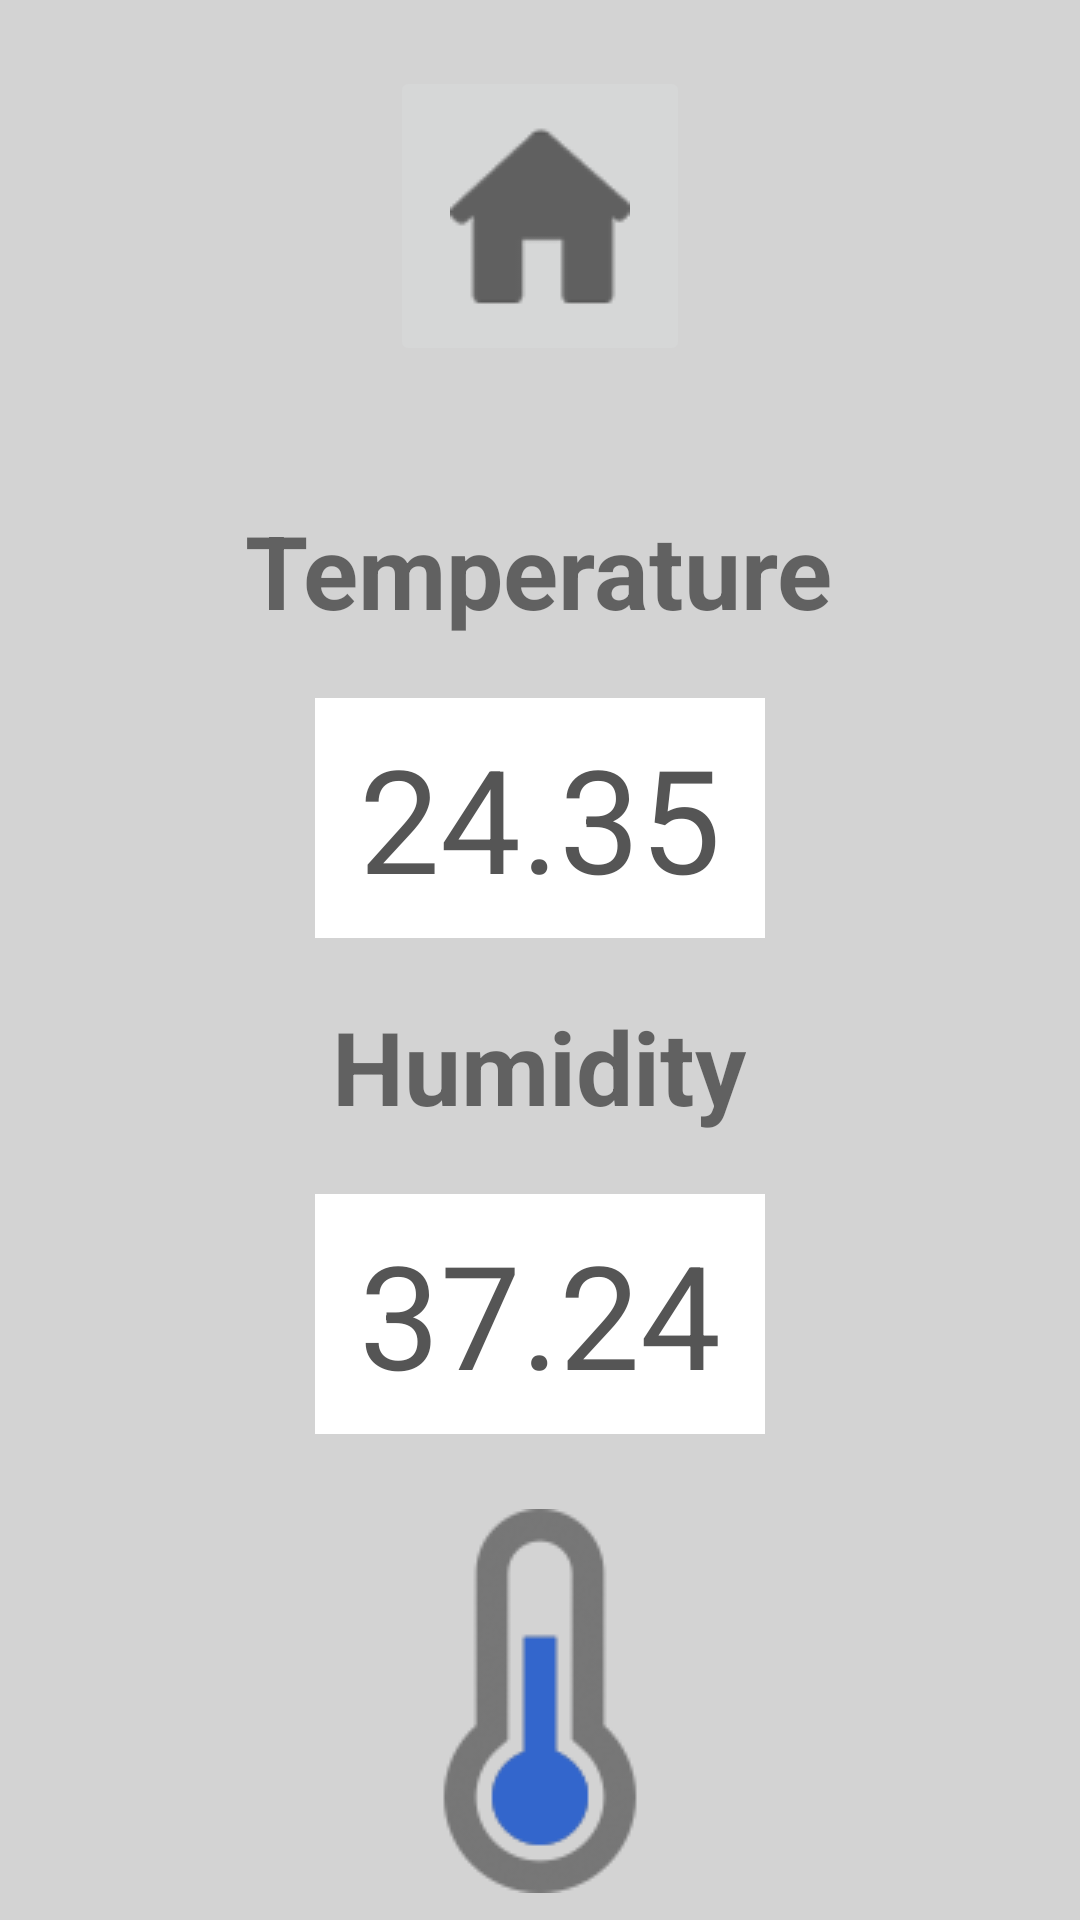

Named icons in this screenshot (1080px×1920px) and their centers, point (x, y):
house: point (540, 216)
